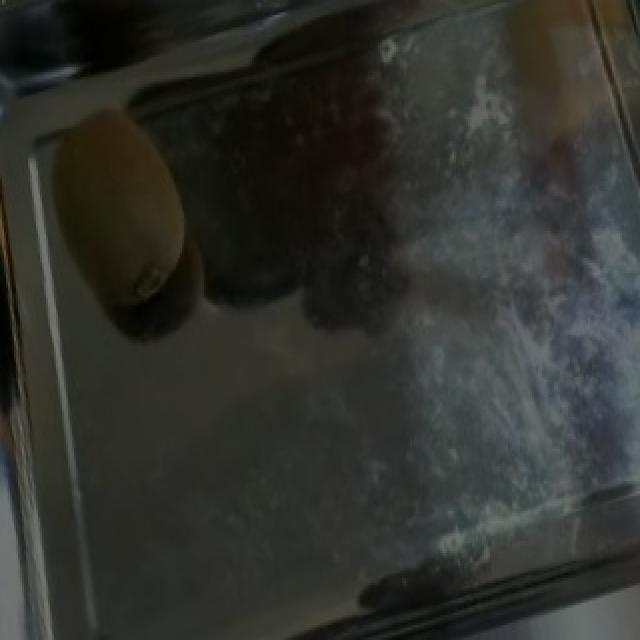Fruit: (4, 87, 212, 330)
